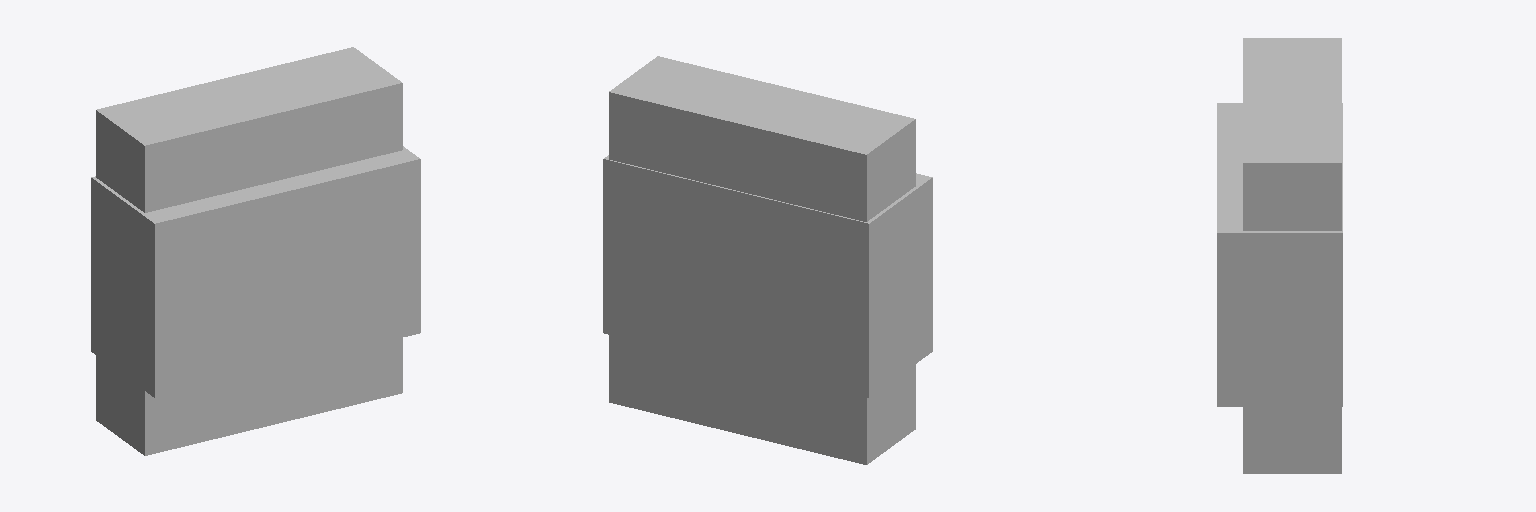
Rendered from drone2baseSimple.obj.
3 renders of one model, left to right at view 1: azimuth 30°, elevation 25°; view 2: azimuth 150°, elevation 25°; view 3: azimuth 270°, elevation 25°, orthographic.
Parts seen in each view (by area): view 1: Object.1, Object.2, Object.3; view 2: Object.1, Object.2, Object.3; view 3: Object.1, Object.2, Object.3.
Part boxes in pixels (x1,y1,x2,y2): Object.1: (91, 146, 420, 397); Object.2: (96, 47, 402, 212); Object.3: (96, 338, 402, 455); Object.1: (603, 155, 932, 397); Object.2: (609, 56, 915, 221); Object.3: (609, 335, 915, 464); Object.1: (1217, 103, 1342, 406); Object.2: (1243, 38, 1341, 230); Object.3: (1243, 407, 1341, 473).
Bounding box in the file's own units: 57.2 × 63.8 × 23.63.